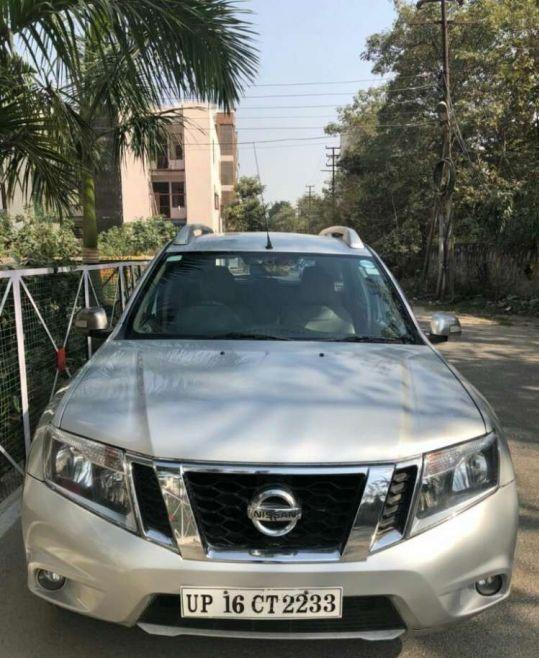License-Plate: (178, 574, 343, 628)
